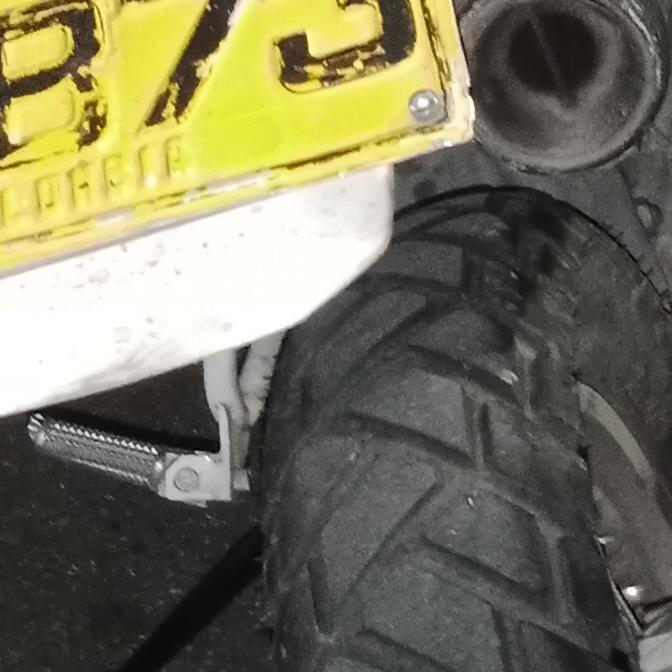plates: (0, 0, 452, 275)
